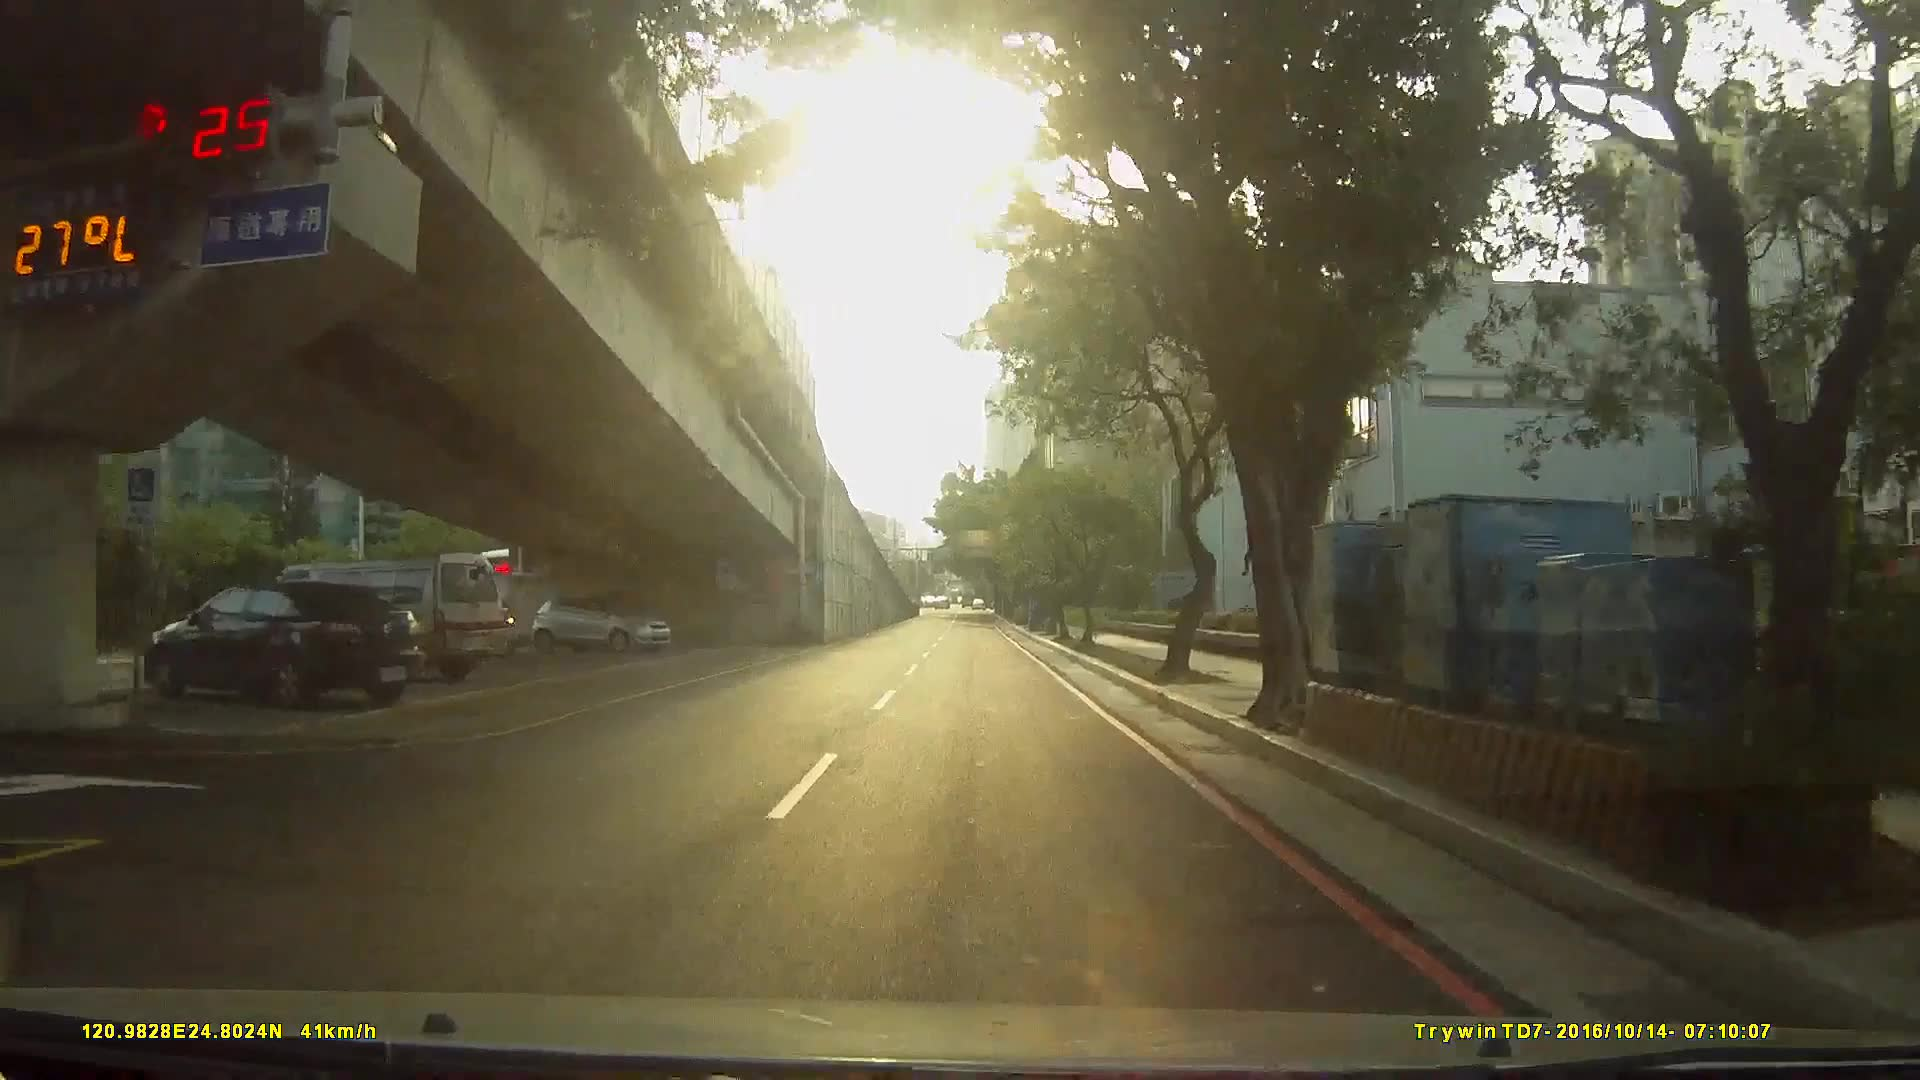vehicle: (123, 579, 426, 723), (239, 551, 513, 698), (524, 597, 669, 663)
